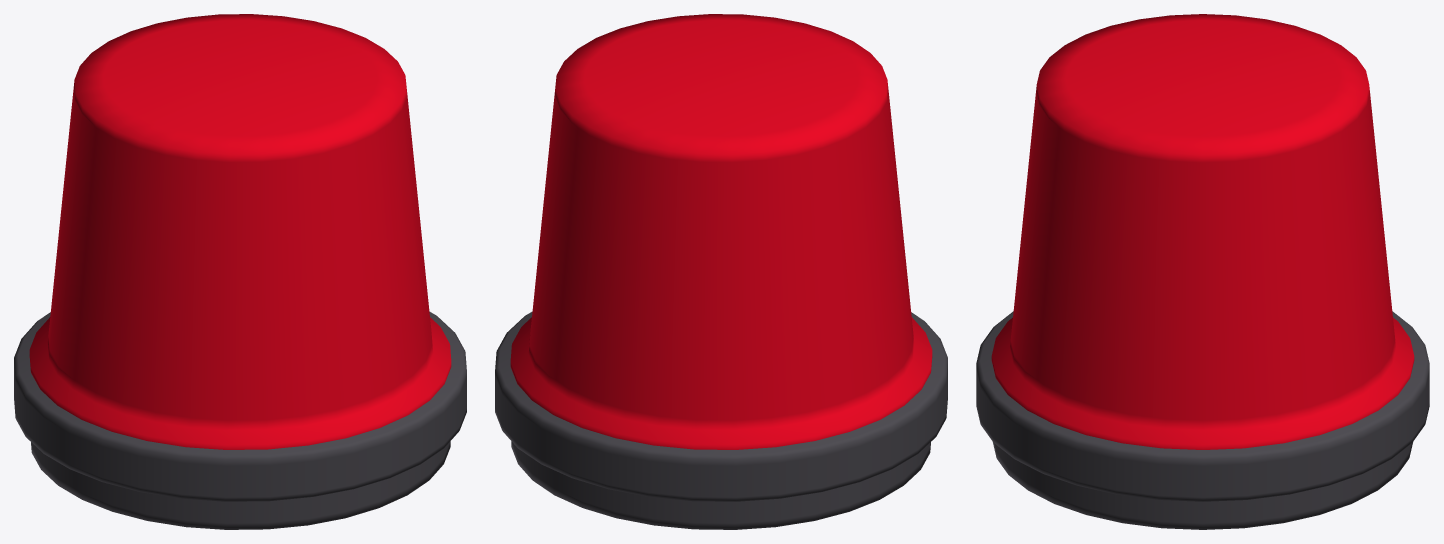
Rendered from AlertLight.fbx.
3 renders of one model, left to right at view 1: azimuth 30°, elevation 25°; view 2: azimuth 150°, elevation 25°; view 3: azimuth 270°, elevation 25°, orthographic.
Visible parts, largest first — view 1: Cylinder.001, Cylinder; view 2: Cylinder.001, Cylinder; view 3: Cylinder.001, Cylinder.
Part boxes in pixels (<box>): Cylinder.001: <box>29,14,451,449</box>; Cylinder: <box>14,311,466,529</box>; Cylinder.001: <box>510,14,932,449</box>; Cylinder: <box>495,311,947,529</box>; Cylinder.001: <box>991,14,1414,449</box>; Cylinder: <box>976,311,1429,529</box>.
Size of the model in its own units: 57.62 by 50.85 by 57.62.
